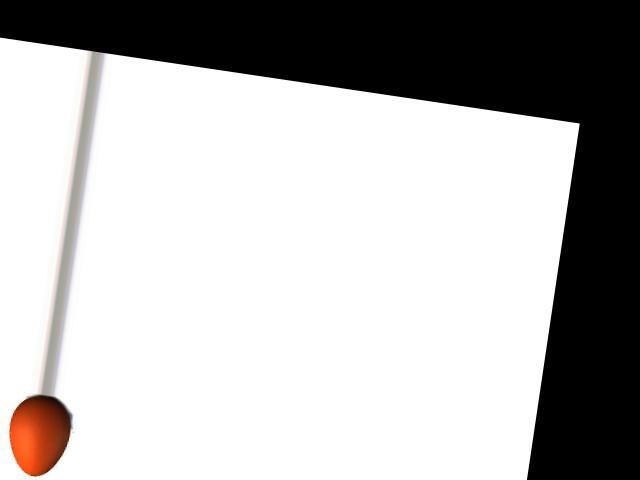egg: (3, 391, 75, 479)
